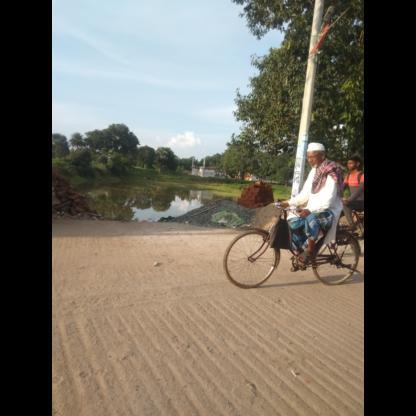Bicycle: (212, 199, 360, 298)
